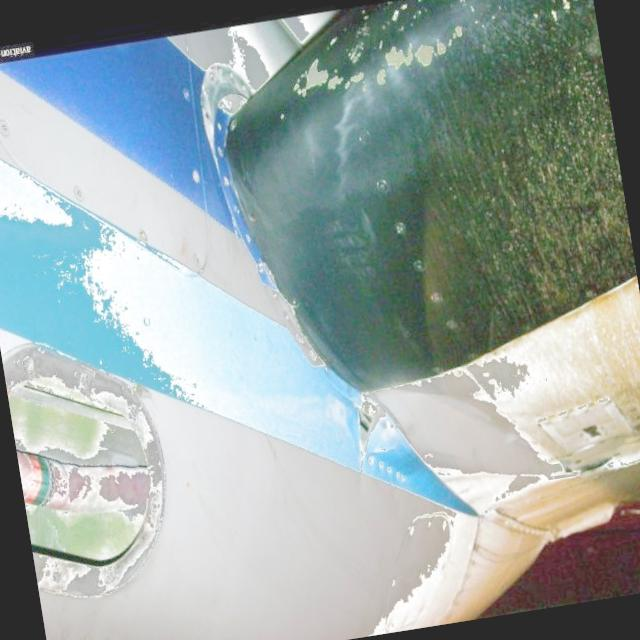crack: (348, 390, 396, 476)
